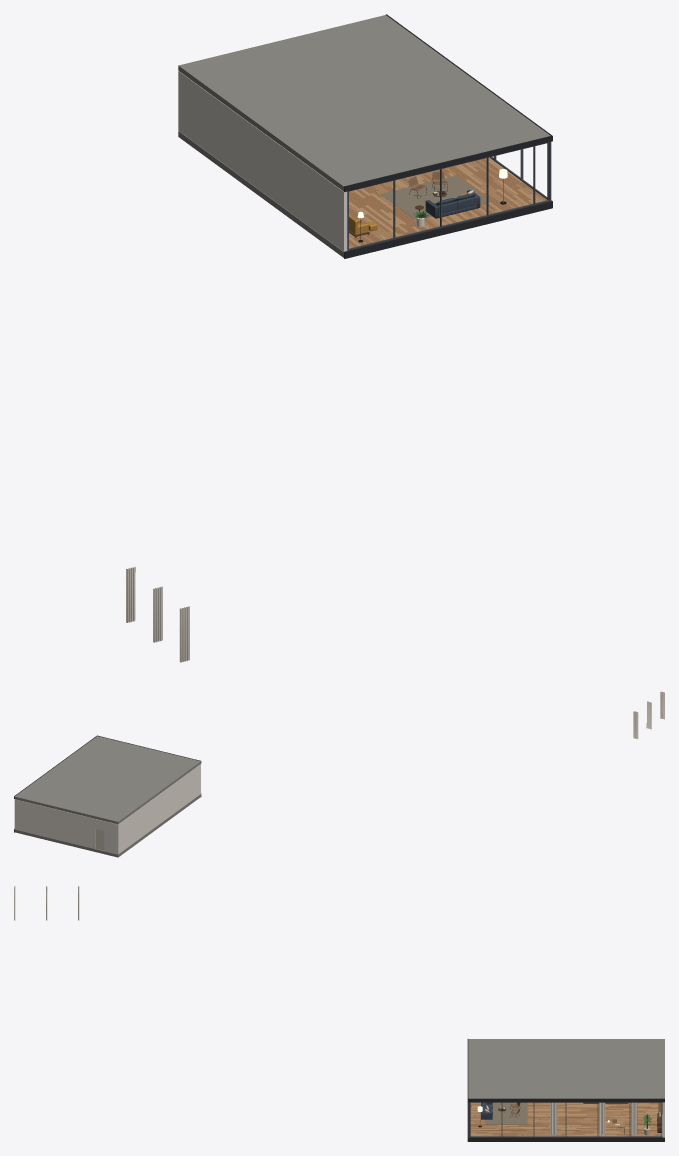
Rendered from room-v2.glb.
The picture shows the model from 3 angles, top to bottom: view 1: azimuth 30°, elevation 25°; view 2: azimuth 150°, elevation 25°; view 3: azimuth 270°, elevation 25°; orthographic projection. The views are drawn at different scales.
Visible parts, largest first — view 1: shell__concrete_slab, shell__plaster_wall, facade__frame_dark, shell__wood_oakwarm, facade__metal_mullion, shell__wood_oakpale, shell__wood_oak, curtain__fabric_curtain, decor__fabric_rug_b6; view 2: shell__concrete_slab, shell__plaster_wall, curtain__fabric_curtain; view 3: shell__concrete_slab, shell__wood_oakwarm, shell__wood_oakpale, facade__frame_dark, shell__wood_oak, facade__metal_mullion, curtain__fabric_curtain, decor__fabric_rug_b6.
Boxes of the visible parts, bbox=[...] form: shell__concrete_slab: bbox=[178, 15, 550, 257]; shell__plaster_wall: bbox=[178, 71, 347, 251]; facade__frame_dark: bbox=[344, 14, 552, 258]; shell__wood_oakwarm: bbox=[349, 159, 546, 246]; facade__metal_mullion: bbox=[347, 142, 551, 250]; shell__wood_oakpale: bbox=[349, 157, 541, 248]; shell__wood_oak: bbox=[349, 159, 544, 247]; curtain__fabric_curtain: bbox=[126, 567, 189, 662]; decor__fabric_rug_b6: bbox=[381, 175, 491, 220]; shell__concrete_slab: bbox=[14, 736, 200, 857]; shell__plaster_wall: bbox=[14, 764, 200, 854]; curtain__fabric_curtain: bbox=[633, 691, 664, 738]; shell__concrete_slab: bbox=[468, 1039, 664, 1098]; shell__wood_oakwarm: bbox=[470, 1102, 661, 1136]; shell__wood_oakpale: bbox=[470, 1102, 661, 1136]; facade__frame_dark: bbox=[467, 1039, 664, 1141]; shell__wood_oak: bbox=[470, 1102, 658, 1136]; facade__metal_mullion: bbox=[468, 1102, 662, 1137]; curtain__fabric_curtain: bbox=[14, 886, 637, 1134]; decor__fabric_rug_b6: bbox=[485, 1102, 527, 1124].
Size of the model in its own units: 43.67 by 4 by 54.96.
